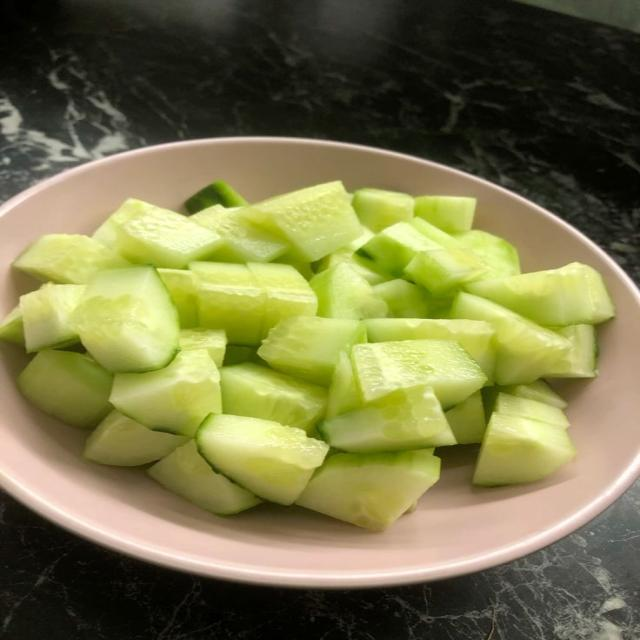cucumber sliced: (196, 415, 328, 504), (297, 450, 439, 531), (73, 266, 179, 372), (451, 293, 571, 384), (110, 350, 221, 436), (466, 263, 614, 326), (352, 340, 486, 409), (319, 386, 456, 453), (247, 182, 361, 261), (148, 440, 261, 515), (366, 318, 495, 382), (220, 363, 326, 435), (258, 317, 366, 386), (18, 350, 113, 427), (474, 413, 574, 486), (189, 262, 266, 345), (117, 208, 222, 268), (84, 411, 188, 466), (190, 205, 290, 262), (14, 235, 128, 283), (247, 263, 317, 338), (356, 222, 439, 277), (20, 284, 86, 352), (310, 262, 388, 319), (405, 248, 487, 296), (482, 380, 567, 419), (454, 230, 520, 279), (93, 199, 159, 248), (316, 248, 390, 285), (352, 188, 413, 232), (494, 393, 569, 428), (547, 325, 597, 377), (325, 351, 362, 419), (158, 269, 198, 328), (414, 196, 476, 233), (374, 279, 430, 318), (446, 391, 486, 444), (185, 181, 248, 213), (502, 380, 567, 409), (180, 328, 226, 367), (409, 218, 461, 249), (274, 254, 314, 281), (0, 306, 24, 345), (223, 345, 264, 365), (346, 226, 374, 251)
